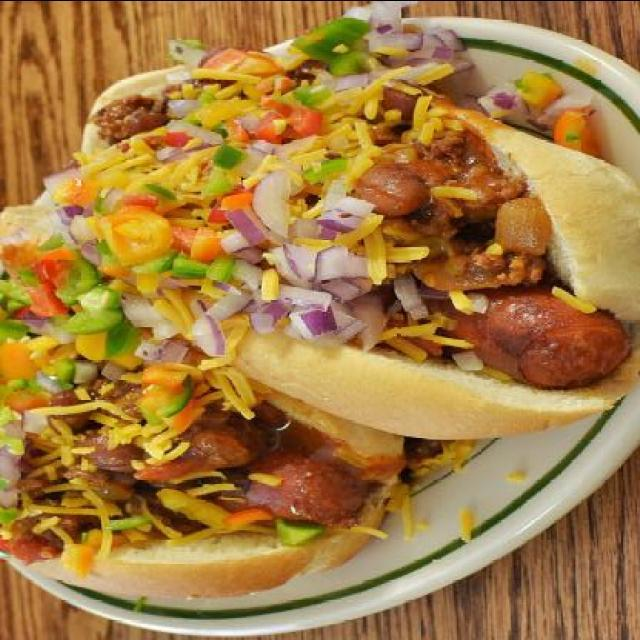Hot dog: (30, 10, 639, 478), (0, 332, 411, 598)
